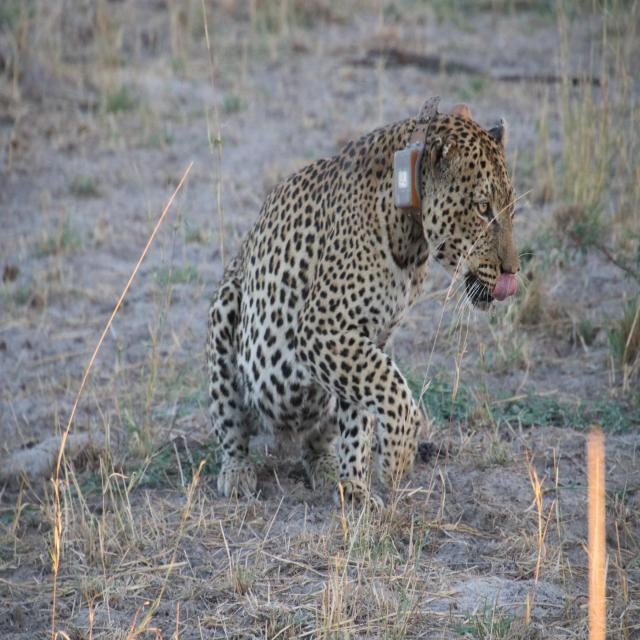Leopard: (190, 108, 516, 514)
